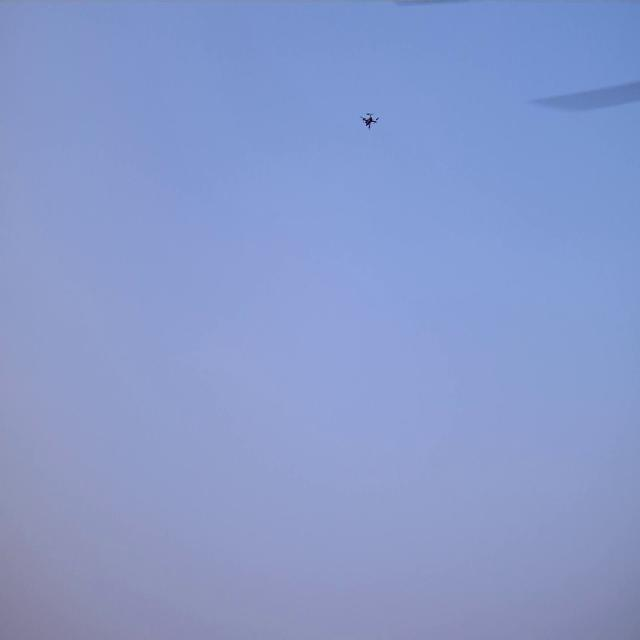UAV: (362, 114, 378, 129)
